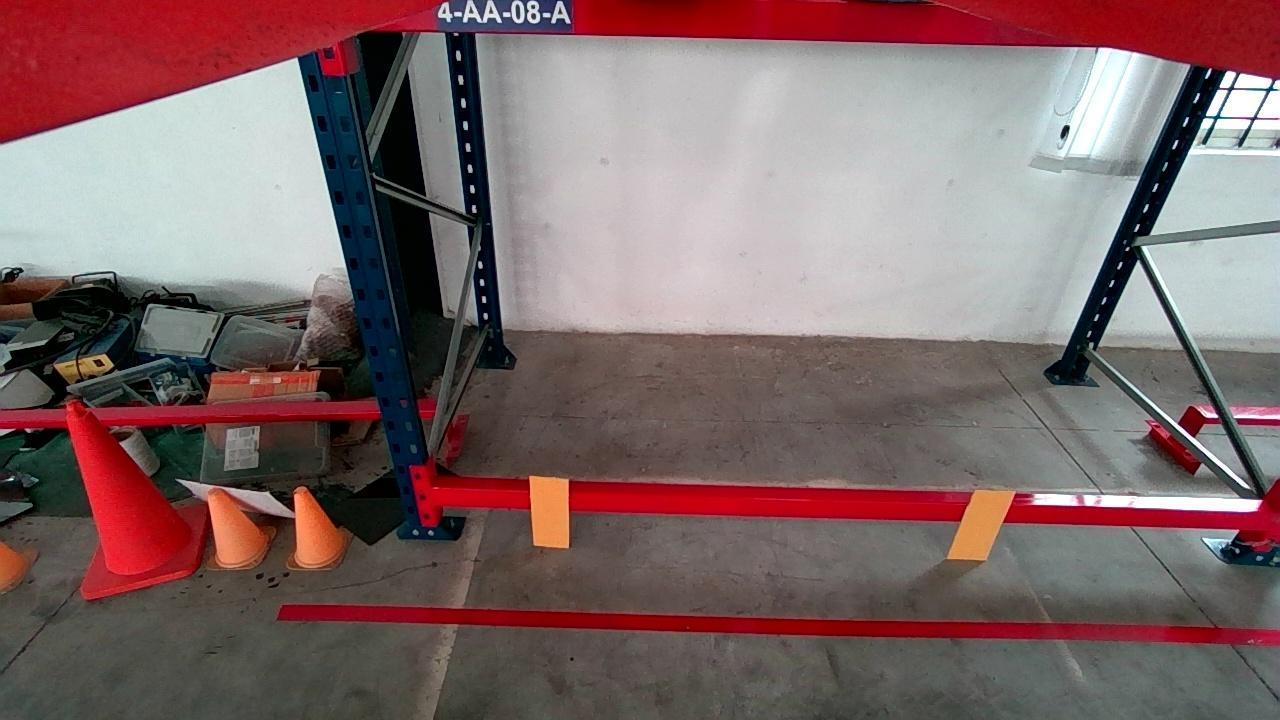h_rack: (435, 488, 1276, 531), (371, 0, 1102, 45)
orange_strip: (949, 487, 1014, 559), (532, 475, 569, 548)
red_line: (273, 606, 1280, 637)
